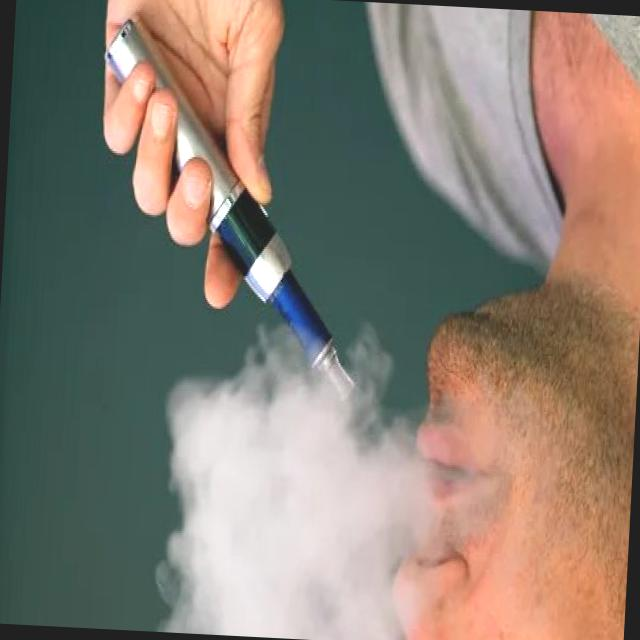smoke: (86, 9, 380, 408)
